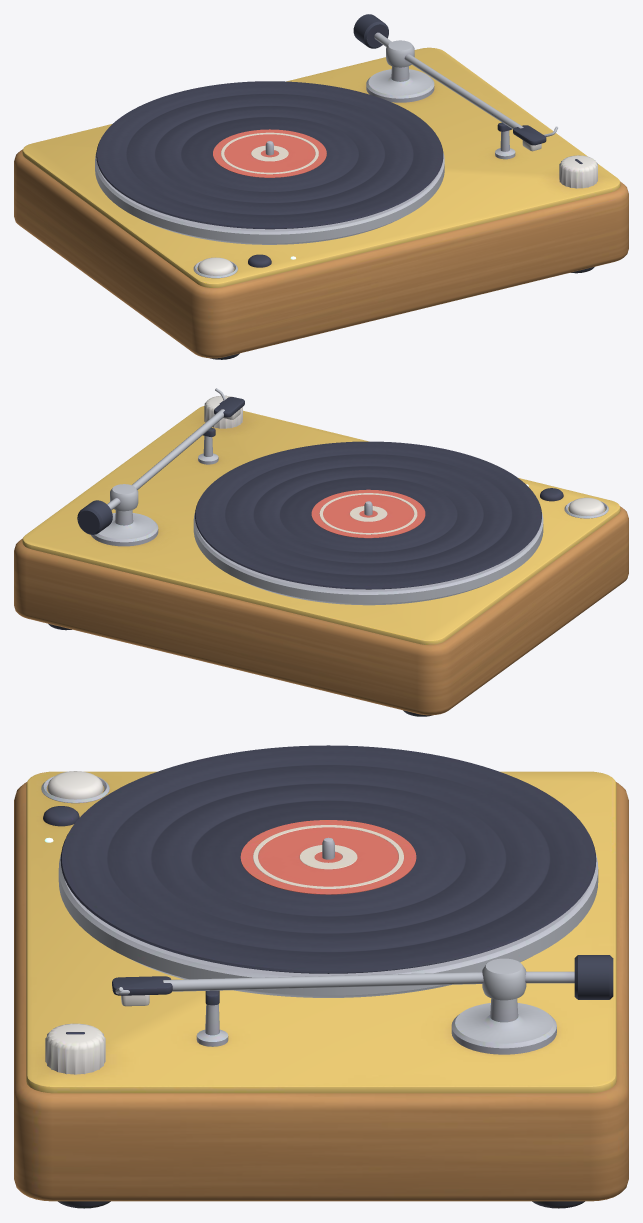
Rendered from turntable-candidate.glb.
The picture shows the model from 3 angles, top to bottom: view 1: azimuth 30°, elevation 25°; view 2: azimuth 150°, elevation 25°; view 3: azimuth 270°, elevation 25°; orthographic projection. The views are drawn at different scales.
Visible parts, largest first — view 1: turntable_body, turntable_platter, turntable_tonearm; view 2: turntable_body, turntable_platter, turntable_tonearm; view 3: turntable_body, turntable_platter, turntable_tonearm.
Boxes of the visible parts, x1,y1,x2,y2 form: turntable_body: (14,47,628,359); turntable_platter: (95,81,444,244); turntable_tonearm: (353,14,557,151); turntable_body: (14,395,628,716); turntable_platter: (193,441,543,605); turntable_tonearm: (77,388,244,534); turntable_body: (14,771,628,1208); turntable_platter: (58,745,598,997); turntable_tonearm: (112,955,613,1006).
Bounding box in the file's own units: 0.44 × 0.1313 × 0.35.
4 materials, 3 textured.
